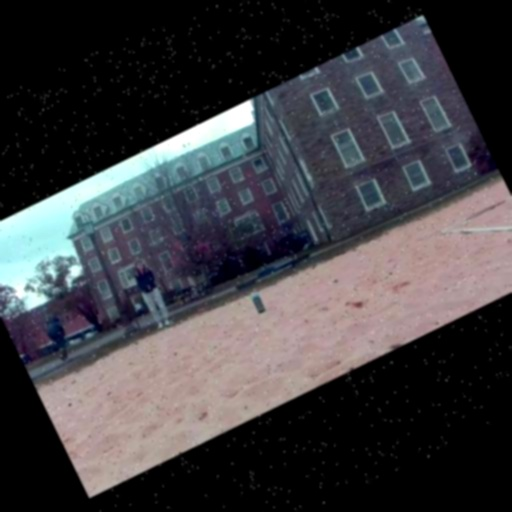bottle: (250, 293, 268, 315)
